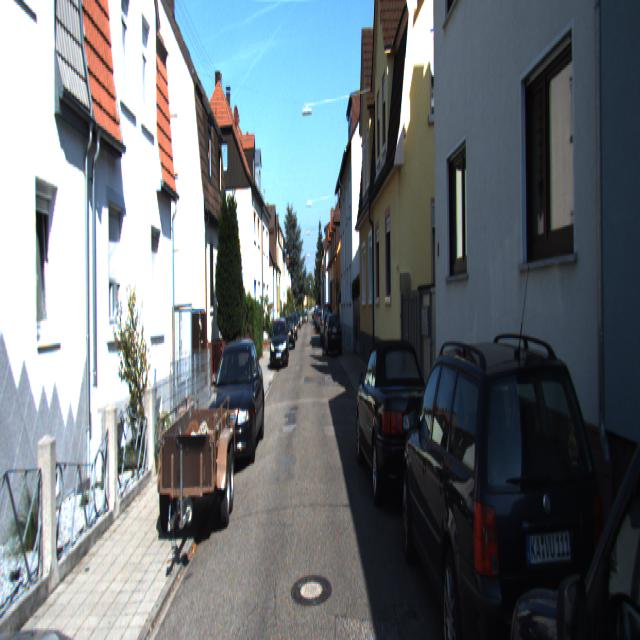Car: (400, 328, 623, 638), (493, 198, 640, 638), (353, 326, 442, 521), (160, 394, 236, 555), (204, 334, 264, 478), (270, 317, 288, 368), (326, 310, 342, 356)
